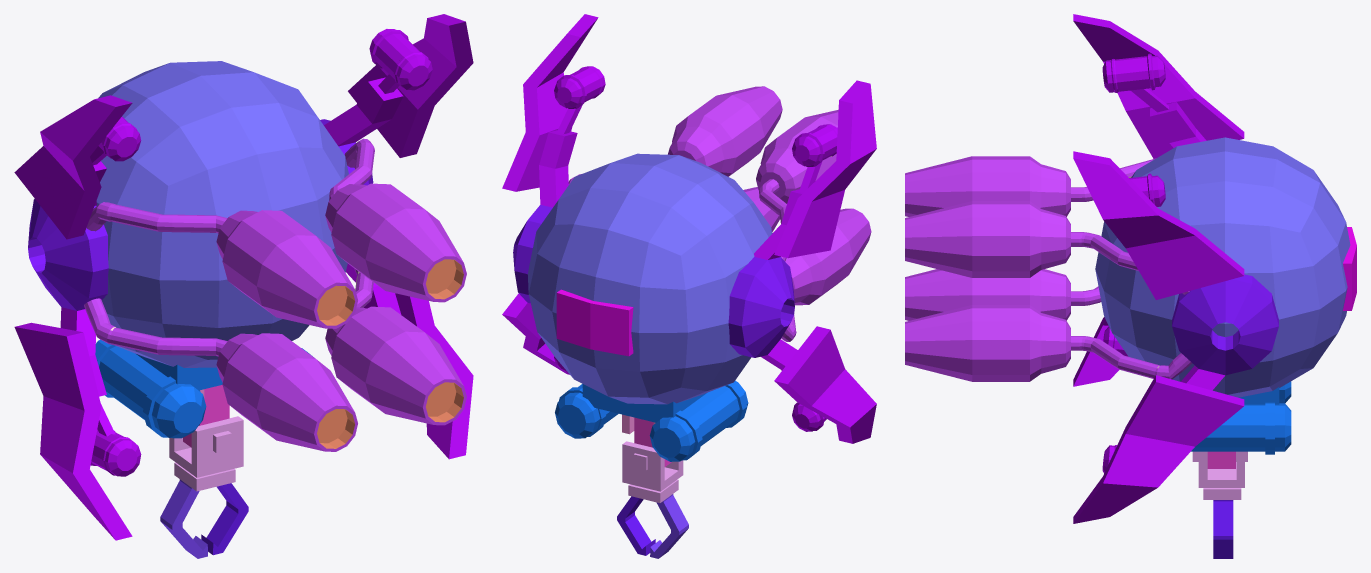
The model's file is drone_with_deliverytool_colored.fbx.
3 renders of one model, left to right at view 1: azimuth 30°, elevation 25°; view 2: azimuth 150°, elevation 25°; view 3: azimuth 270°, elevation 25°, orthographic. The views are drawn at different scales.
Parts seen in each view (by area): view 1: Cube, Cylinder, Cube.009, Cube.011, Cube.012, Cube.001; view 2: Cube, Cylinder, Cube.009, Cube.011, Cube.012, Cube.001; view 3: Cube, Cylinder, Cube.009, Cube.012.
Part boxes in pixels (<box>): Cube: <box>14,14,473,540</box>; Cylinder: <box>95,339,312,438</box>; Cube.009: <box>169,416,243,491</box>; Cube.011: <box>160,479,207,558</box>; Cube.012: <box>201,483,248,555</box>; Cube.001: <box>183,385,229,447</box>; Cube: <box>502,14,876,443</box>; Cylinder: <box>555,380,748,461</box>; Cube.009: <box>622,441,683,502</box>; Cube.011: <box>650,494,688,558</box>; Cube.012: <box>617,496,655,555</box>; Cube.001: <box>634,417,671,466</box>; Cube: <box>905,14,1356,523</box>; Cylinder: <box>1191,381,1291,454</box>; Cube.009: <box>1192,451,1247,499</box>; Cube.012: <box>1213,500,1233,558</box>.
Size of the model in its own units: 264 by 348 by 306.
